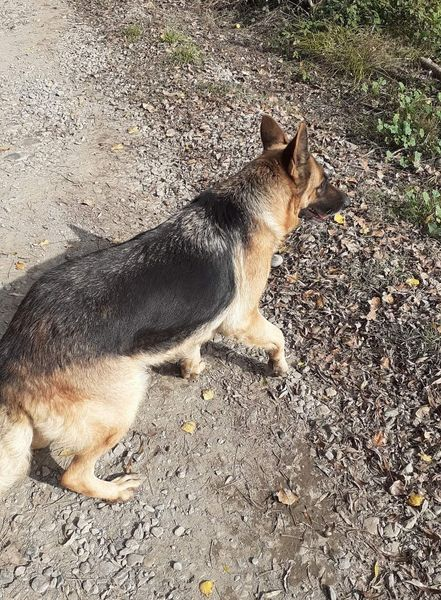dog: (1, 114, 347, 505)
